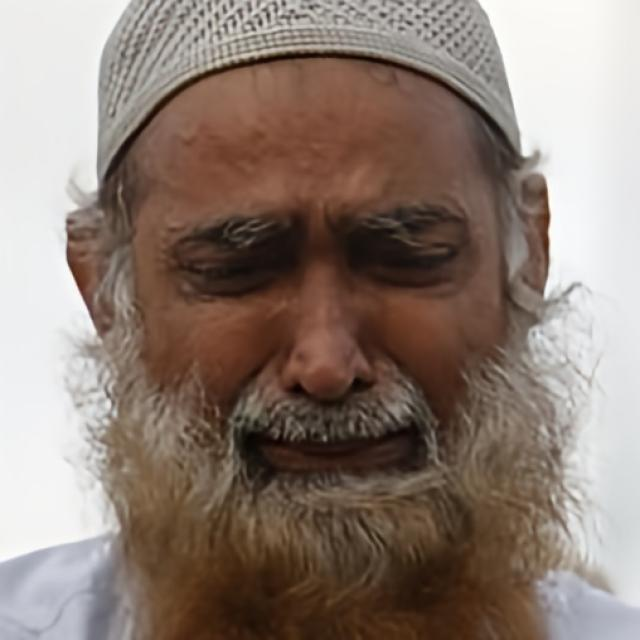sad: (126, 55, 505, 602)
